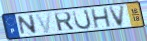H: (90, 6, 112, 29)
N: (17, 14, 38, 37)
R: (53, 11, 76, 32)
U: (71, 8, 93, 31)
V: (108, 4, 127, 28), (34, 12, 53, 34)
